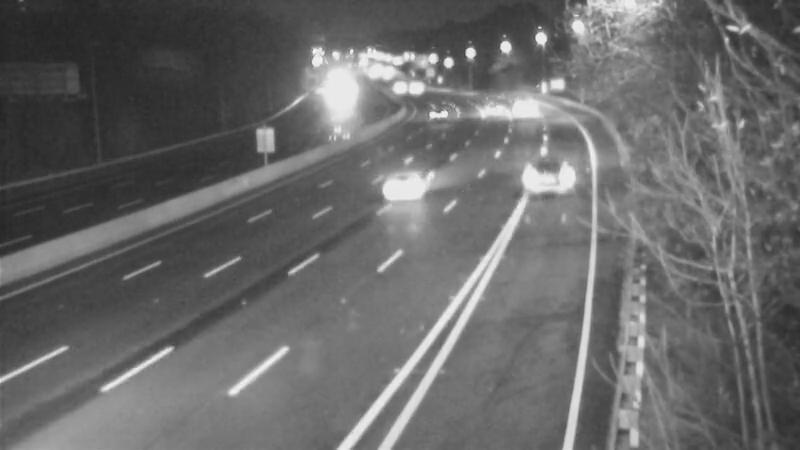vehicle: (505, 152, 585, 232), (367, 153, 447, 233), (461, 72, 511, 122), (497, 80, 547, 130), (414, 86, 464, 136)
